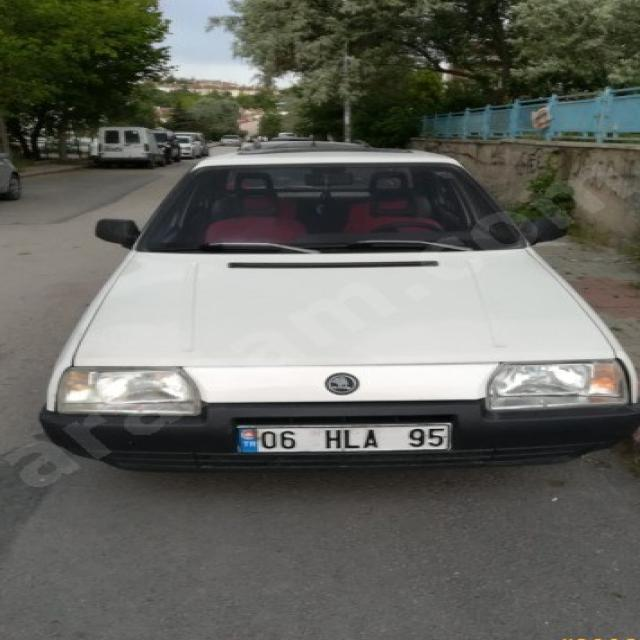license_plate: (236, 422, 453, 453)
